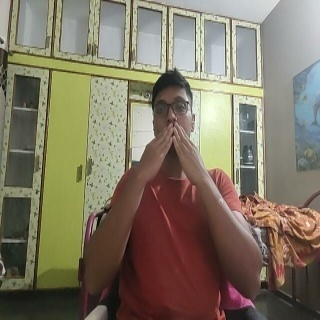Thank You: (134, 122, 214, 187)
